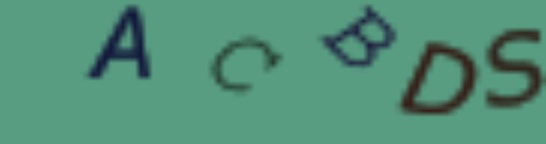A: (81, 1, 156, 79)
B: (318, 5, 397, 71)
C: (206, 32, 282, 94)
D: (393, 41, 482, 117)
S: (487, 25, 546, 113)
